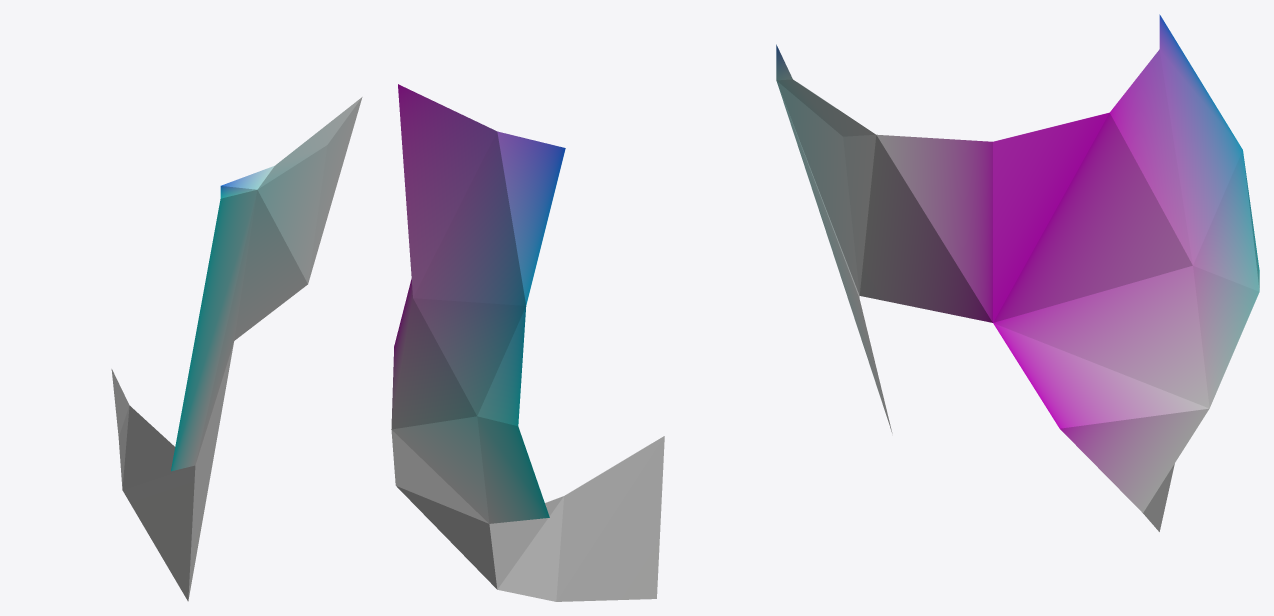
3 views of the same model, side by side, from view 1: azimuth 30°, elevation 25°; view 2: azimuth 150°, elevation 25°; view 3: azimuth 270°, elevation 25° (orthographic). The views are drawn at different scales.
Parts seen in each view (by area): view 1: model_11C2; view 2: model_11C2; view 3: model_11C2.
Boxes of the visible parts, x1,y1,x2,y2 form: model_11C2: (111,97,362,601); model_11C2: (391,84,664,601); model_11C2: (776,14,1259,531).
Bounding box in the file's own units: 16 × 38 × 29.
